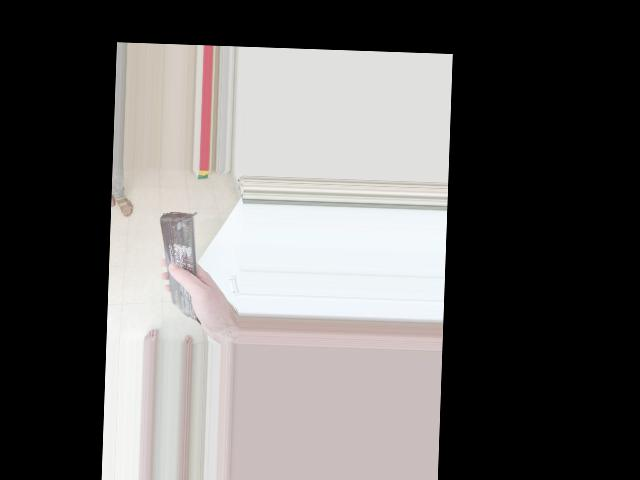chocolate: (156, 210, 203, 329)
